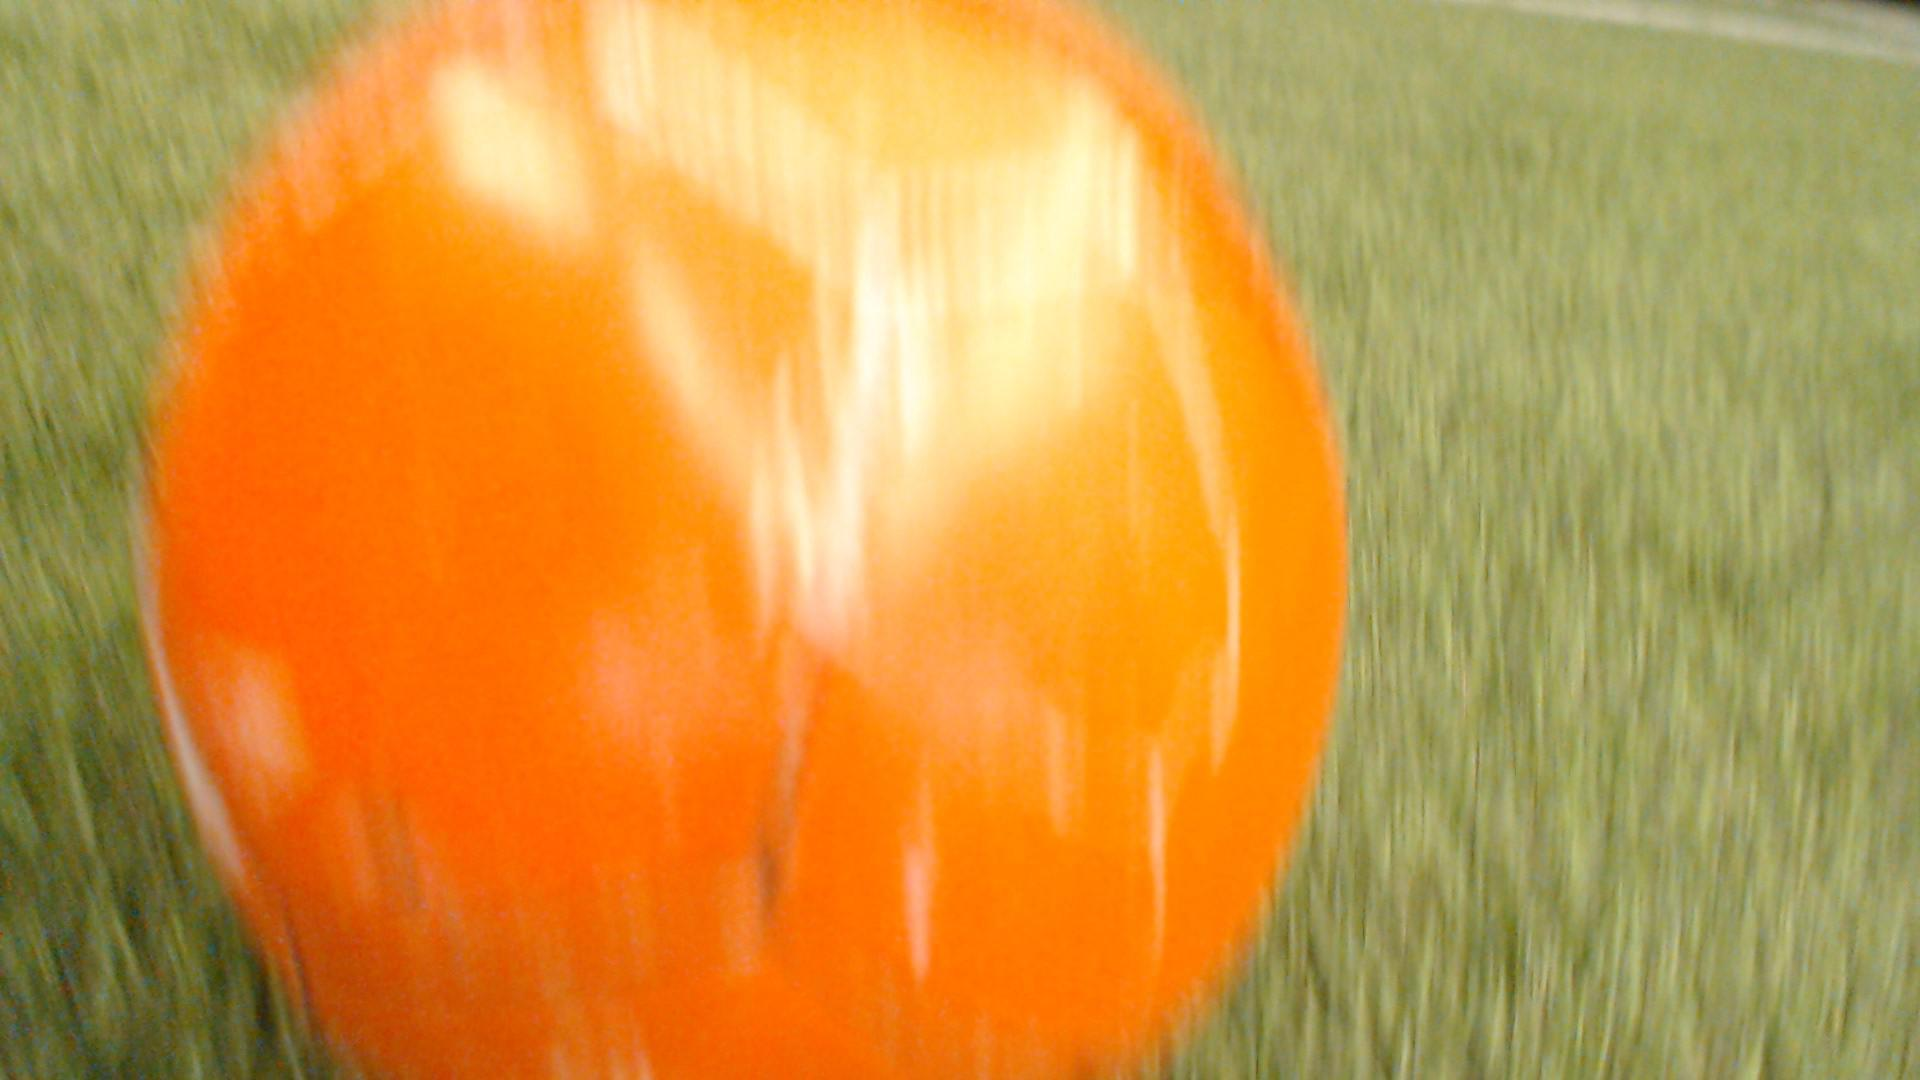bola: (94, 0, 1348, 1079)
